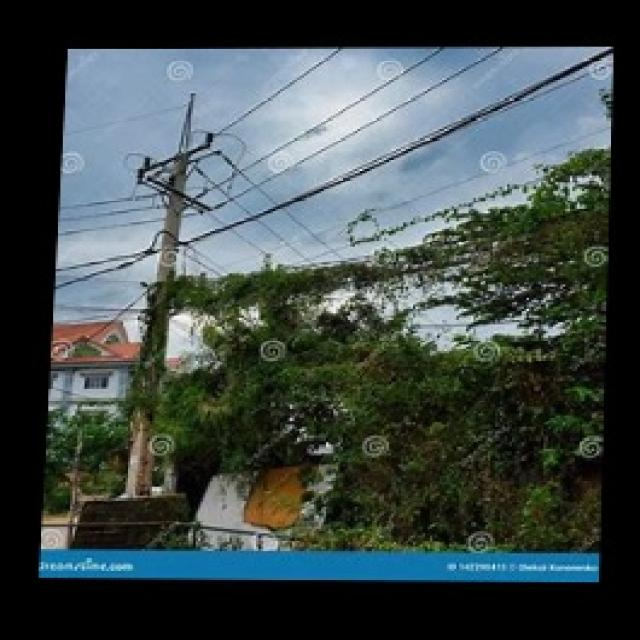critical vegetation: (165, 252, 606, 364)
